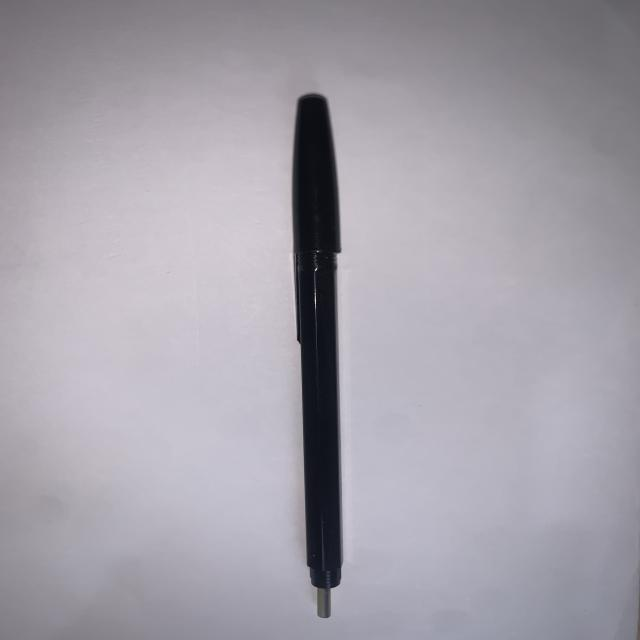Pulpen: (275, 87, 375, 626)
